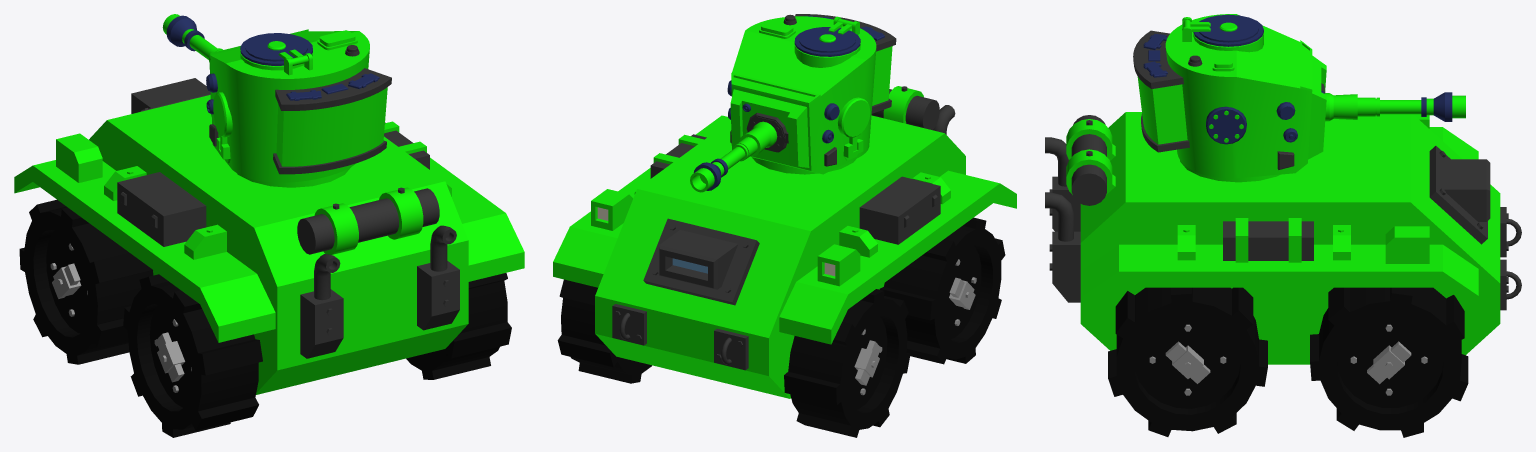
File: Tank_6.fbx
The picture shows the model from 3 angles, left to right: view 1: azimuth 30°, elevation 25°; view 2: azimuth 150°, elevation 25°; view 3: azimuth 270°, elevation 25°; orthographic projection. The views are drawn at different scales.
Visible parts, largest first — view 1: Tank_F_Body, Tank_F_Turret, Tank_F_Wheel_R_L, Tank_F_Wheel_F_L, Tank_F_Wheel_R_R, Tank_F_Turret_Rot; view 2: Tank_F_Body, Tank_F_Turret, Tank_F_Wheel_F_L, Tank_F_Wheel_R_L, Tank_F_Wheel_F_R, Tank_F_Turret_Rot; view 3: Tank_F_Body, Tank_F_Turret, Tank_F_Wheel_R_R, Tank_F_Wheel_F_R.
Boxes of the visible parts, <box> form: Tank_F_Body: <box>14,78,524,394</box>; Tank_F_Turret: <box>162,14,391,182</box>; Tank_F_Wheel_R_L: <box>123,274,262,437</box>; Tank_F_Wheel_F_L: <box>19,199,153,364</box>; Tank_F_Wheel_R_R: <box>406,273,511,379</box>; Tank_F_Turret_Rot: <box>237,167,350,187</box>; Tank_F_Body: <box>553,86,1016,398</box>; Tank_F_Turret: <box>690,14,896,192</box>; Tank_F_Wheel_F_L: <box>784,289,910,437</box>; Tank_F_Wheel_R_L: <box>879,217,1005,364</box>; Tank_F_Wheel_F_R: <box>557,279,651,383</box>; Tank_F_Turret_Rot: <box>752,157,856,174</box>; Tank_F_Body: <box>1045,112,1521,364</box>; Tank_F_Turret: <box>1133,14,1465,178</box>; Tank_F_Wheel_R_R: <box>1108,287,1267,436</box>; Tank_F_Wheel_F_R: <box>1310,287,1468,437</box>.
Bounding box in the file's own units: 74.12 × 78.91 × 102.
